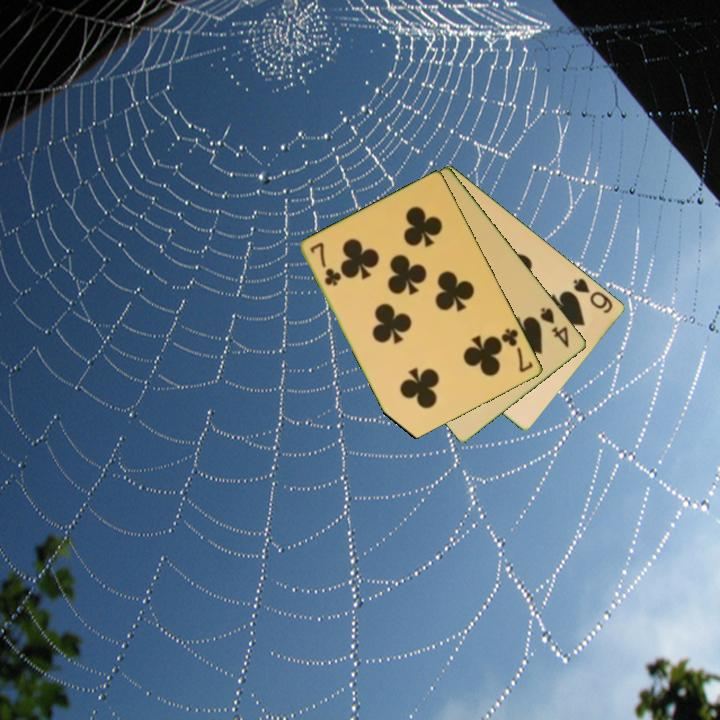4s: (537, 303, 572, 351)
6s: (570, 275, 616, 316)
7c: (498, 325, 536, 376), (306, 239, 344, 289)
